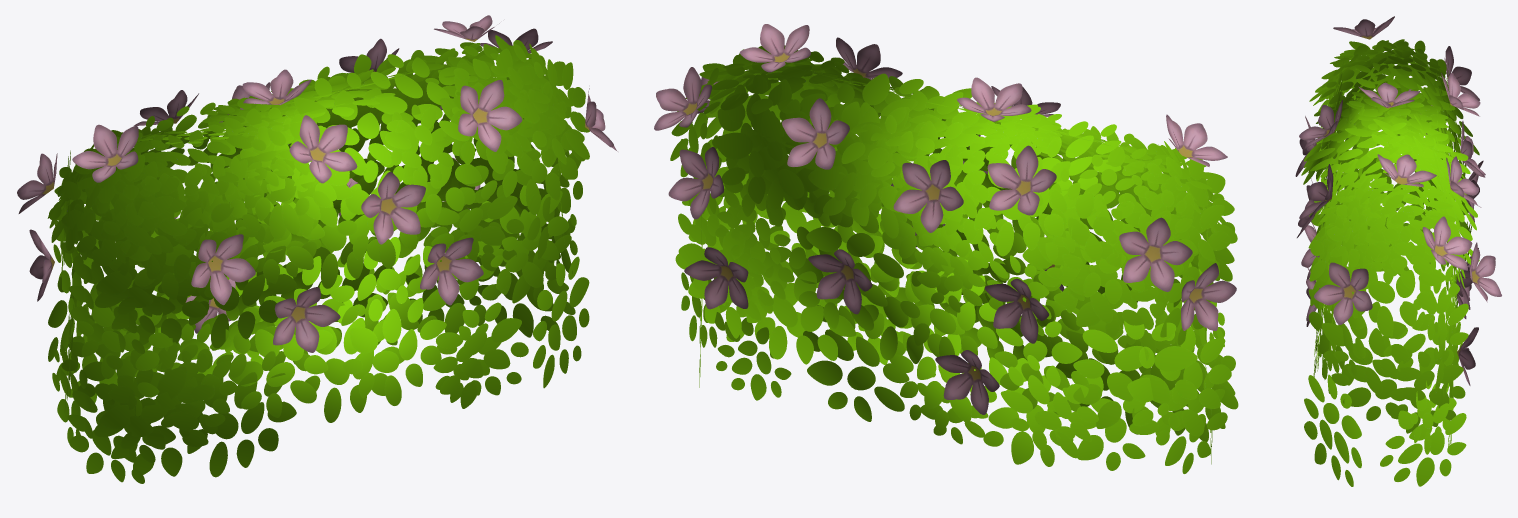
Rendered from bush_large_flowers.glb.
The picture shows the model from 3 angles, left to right: view 1: azimuth 30°, elevation 25°; view 2: azimuth 150°, elevation 25°; view 3: azimuth 270°, elevation 25°; orthographic projection. The views are drawn at different scales.
Visible parts, largest first — view 1: Bush_Large_Flowers; view 2: Bush_Large_Flowers; view 3: Bush_Large_Flowers.
Part boxes in pixels (x1=…): Bush_Large_Flowers: x1=17, y1=15, x2=617, y2=483; Bush_Large_Flowers: x1=654, y1=24, x2=1238, y2=473; Bush_Large_Flowers: x1=1295, y1=16, x2=1501, y2=486.
Size of the model in its own units: 1.93 by 1.26 by 0.7617.
Materials: 2 (2 with a texture image).
